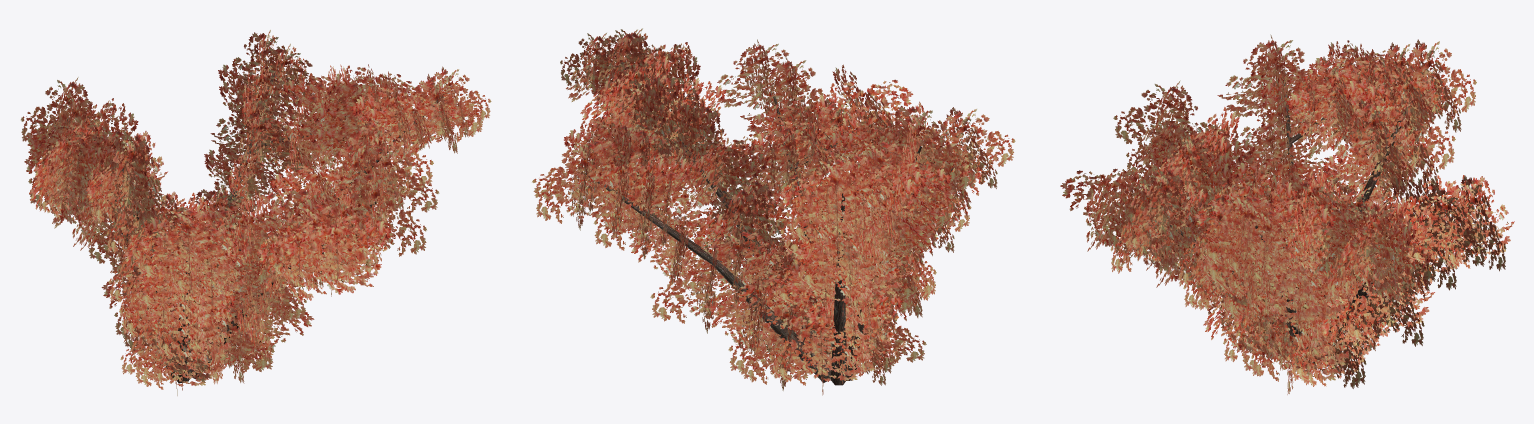
Rendered from bush_3d_05_copper_lod0.glb.
3 renders of one model, left to right at view 1: azimuth 30°, elevation 25°; view 2: azimuth 150°, elevation 25°; view 3: azimuth 270°, elevation 25°, orthographic. The views are drawn at different scales.
Visible parts, largest first — view 1: foliage_cards, wood_geometry; view 2: foliage_cards, wood_geometry; view 3: foliage_cards, wood_geometry.
Boxes of the visible parts, x1,y1,x2,y2 form: foliage_cards: (21,30,491,395); wood_geometry: (58,72,443,383); foliage_cards: (532,28,1015,395); wood_geometry: (585,51,953,385); foliage_cards: (1060,34,1514,394); wood_geometry: (1165,69,1464,363).
Size of the model in its own units: 2.84 by 1.72 by 2.5.
Materials: 2 (2 with a texture image).
